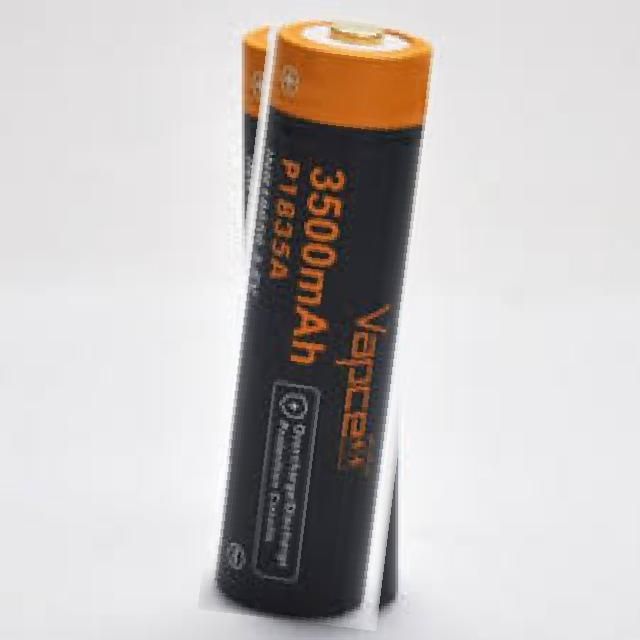Battery: (214, 18, 433, 618)
